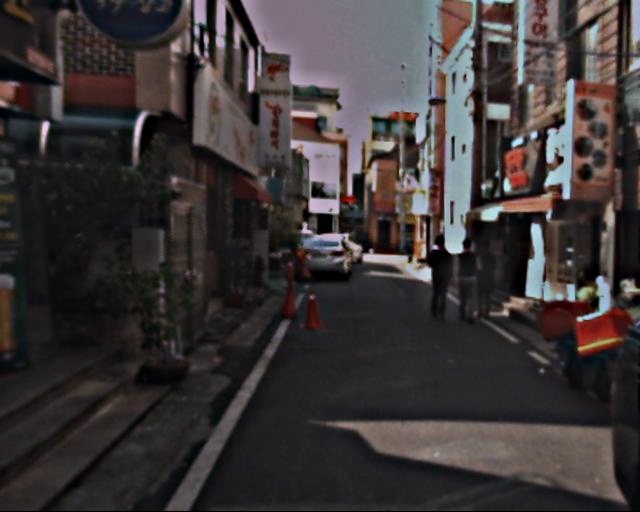person: (422, 236, 457, 322), (452, 241, 487, 326), (470, 239, 504, 323)
